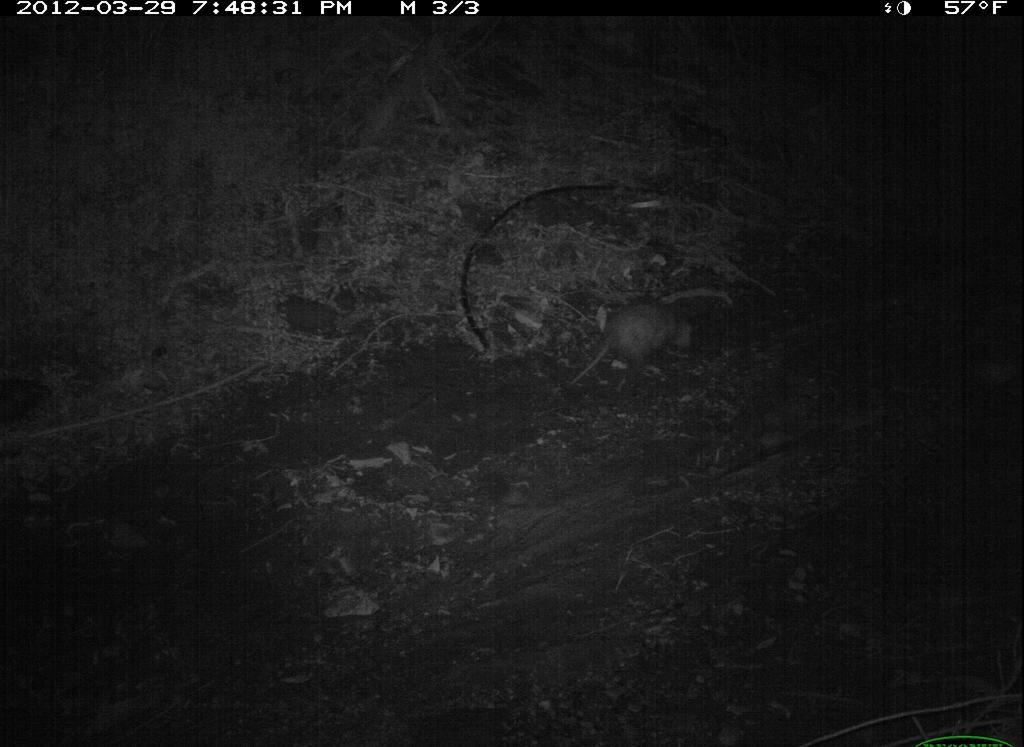opossum: (561, 295, 705, 400)
